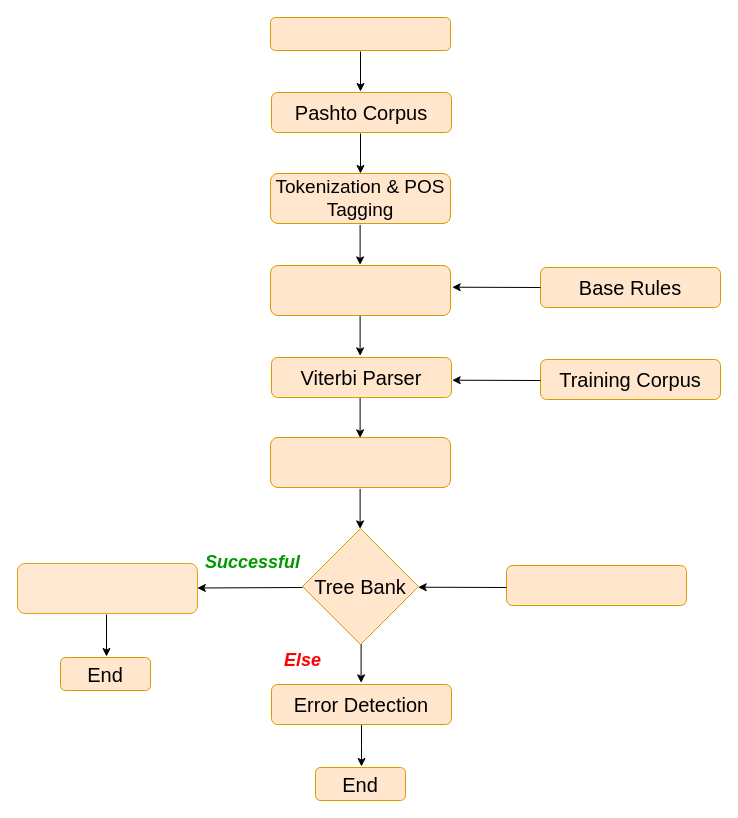
Some shapes in this 738 by 818 pixel diagram are drawn without their labels. Here are the shapes that lost their labels. From the top down, the centre of each, then its label:
At (360,33): "Start".
At (360,290): "Assigning Probabilities".
At (360,462): "Generating Parse Trees".
At (107,588): "Grammatically Correct".
At (596,585): "Input Sentence".
